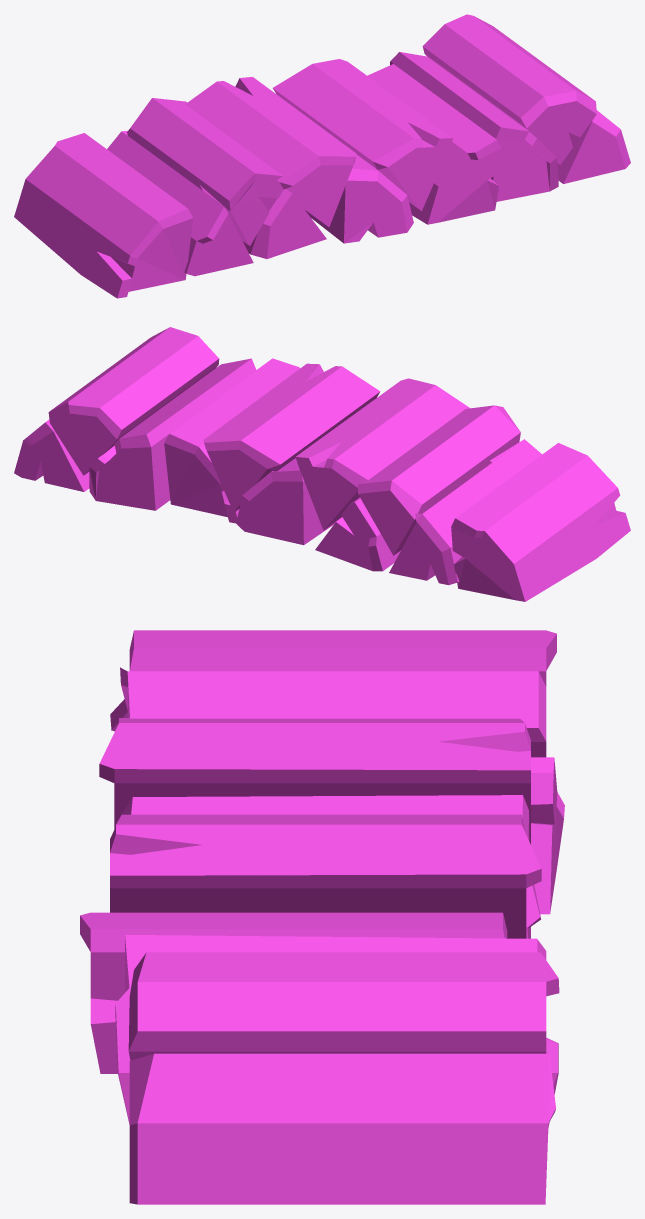
The model's file is SM_Wood_Pile_Wall_Bottom_Fantasy.fbx.
3 views of the same model, one above another, from view 1: azimuth 30°, elevation 25°; view 2: azimuth 150°, elevation 25°; view 3: azimuth 270°, elevation 25° (orthographic). The views are drawn at different scales.
Visible parts, largest first — view 1: SM_Wood_Pile_Wall_Bottom_Fantasy; view 2: SM_Wood_Pile_Wall_Bottom_Fantasy; view 3: SM_Wood_Pile_Wall_Bottom_Fantasy.
Part boxes in pixels (x1,y1,x2,y2): SM_Wood_Pile_Wall_Bottom_Fantasy: (14, 14, 630, 298); SM_Wood_Pile_Wall_Bottom_Fantasy: (14, 327, 630, 601); SM_Wood_Pile_Wall_Bottom_Fantasy: (80, 630, 564, 1204).
Bounding box in the file's own units: 1.36 × 0.2495 × 0.5561.
